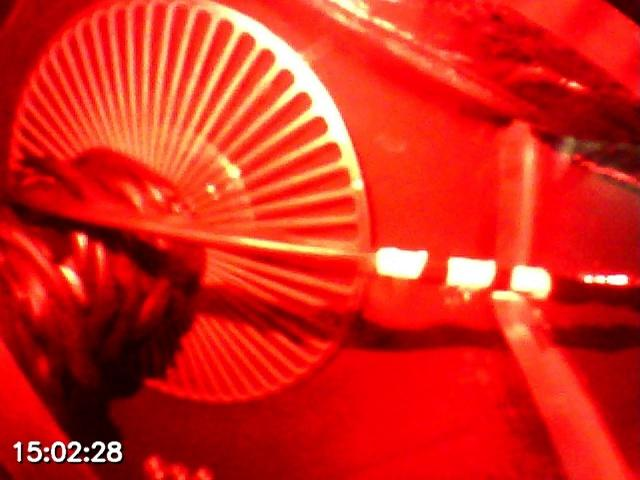white-dots: (374, 245, 551, 300)
